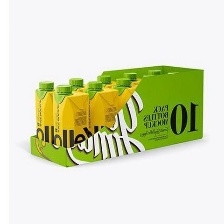carton: (51, 83, 91, 150), (84, 78, 118, 140), (32, 79, 55, 145), (113, 77, 140, 122), (67, 75, 89, 92)
